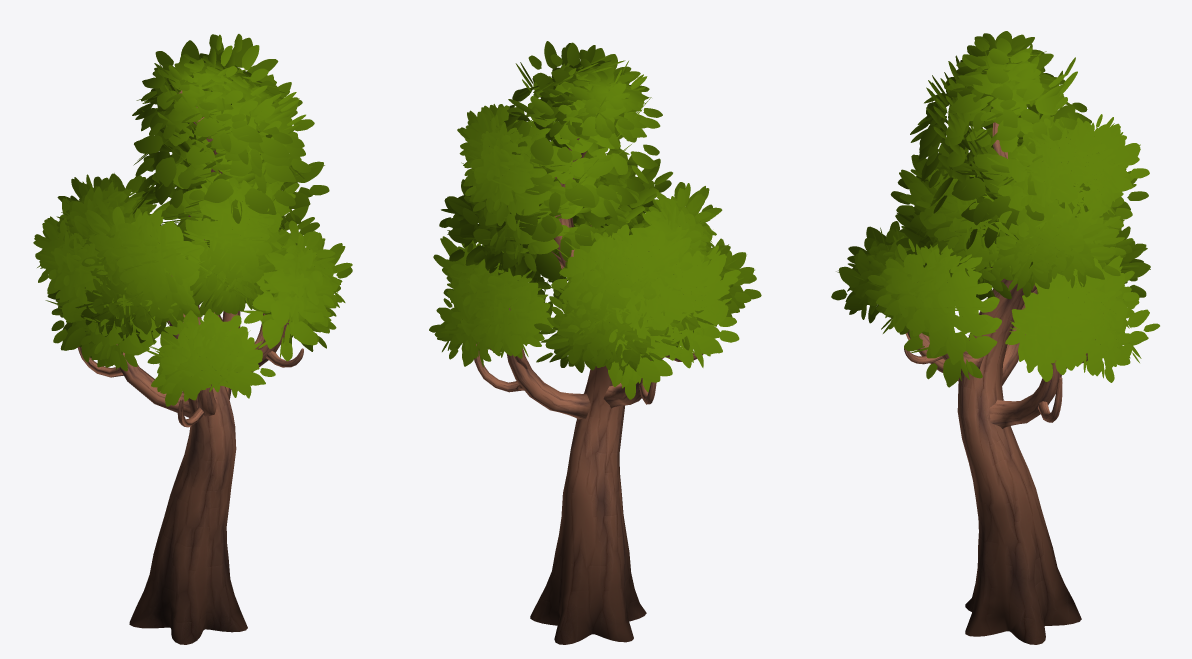
Rendered from common-tree.glb.
The picture shows the model from 3 angles, left to right: view 1: azimuth 30°, elevation 25°; view 2: azimuth 150°, elevation 25°; view 3: azimuth 270°, elevation 25°; orthographic projection. The views are drawn at different scales.
Parts seen in each view (by area): view 1: CommonTree_2; view 2: CommonTree_2; view 3: CommonTree_2.
Boxes of the visible parts, x1,y1,x2,y2 form: CommonTree_2: [33, 34, 352, 644]; CommonTree_2: [429, 41, 761, 644]; CommonTree_2: [831, 31, 1159, 644].
Size of the model in its own units: 4.46 by 7.64 by 4.28.
2 materials, 2 textured.
